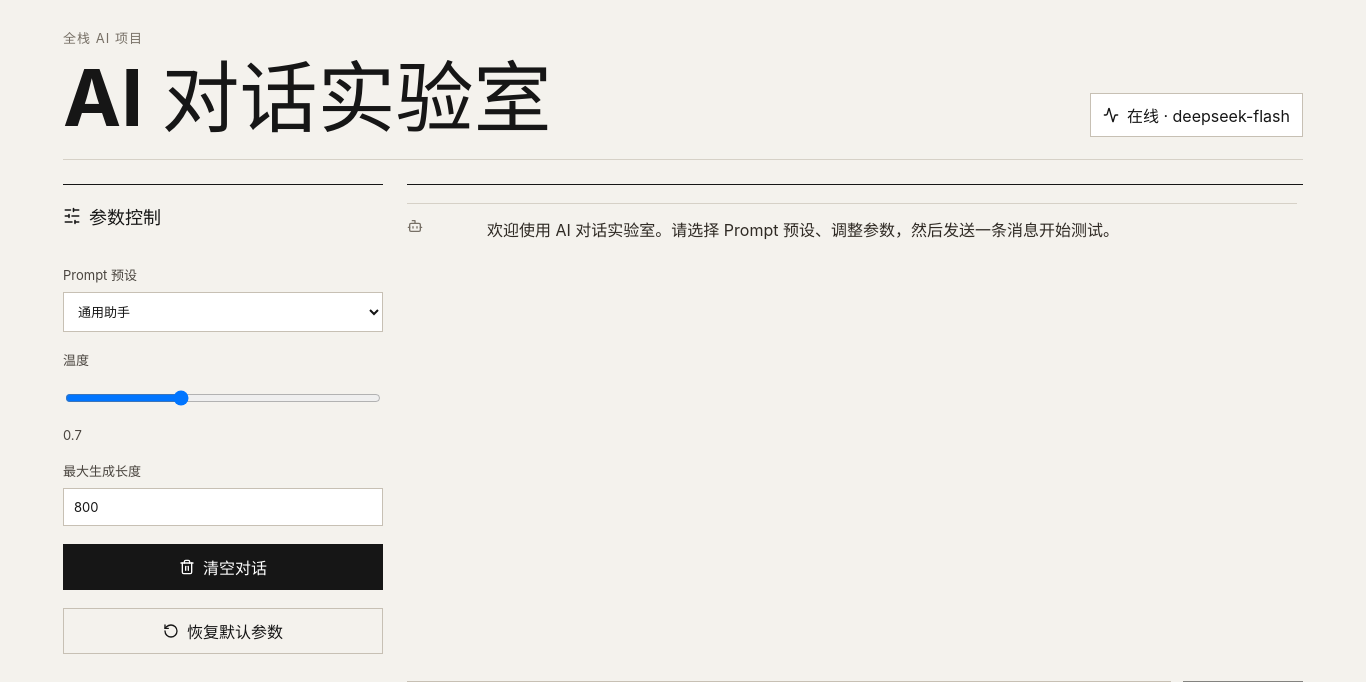
Test: App › clears the conversation with Chinese copy and persists the result
The width and height of the screenshot is (1366, 682).
Expected: the text "在线 · deepseek-flash" is shown, [1127, 103, 1290, 127]
Click the button "清空对话" at coordinates (223, 567), box [63, 544, 383, 590]
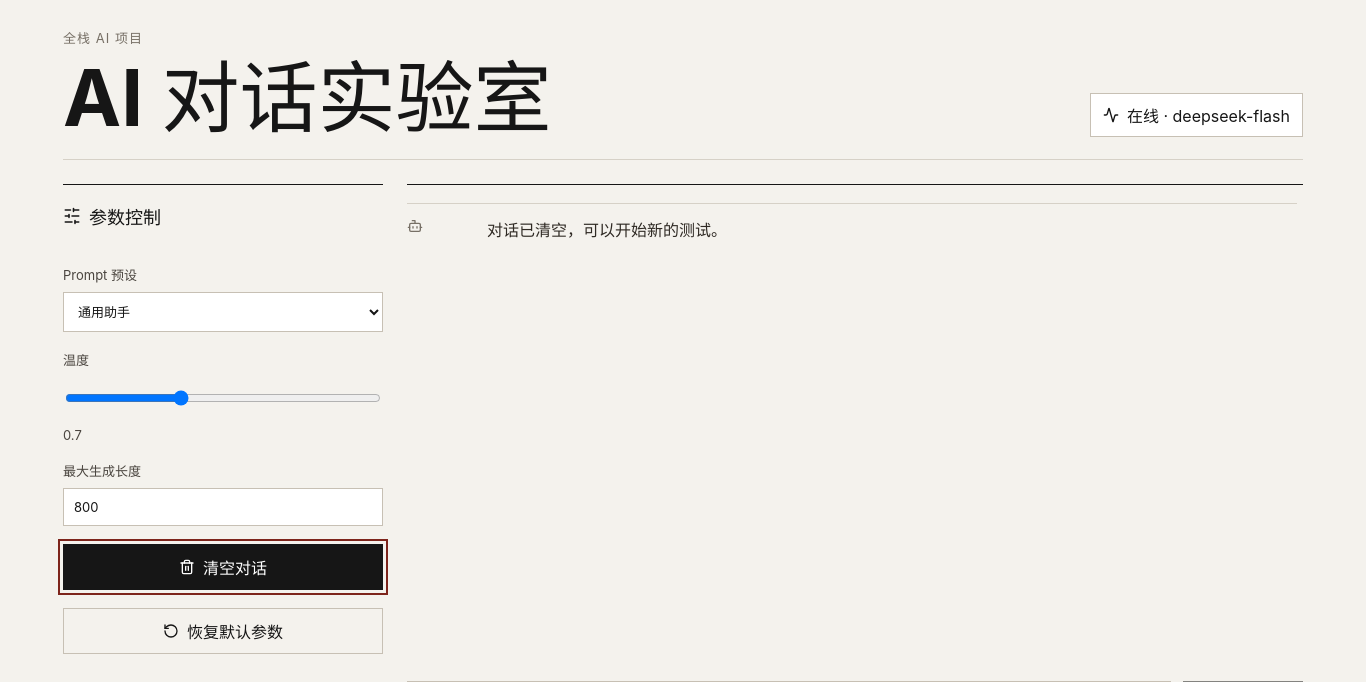
Expected: the text "对话已清空，可以开始新的测试。" is shown, [487, 220, 727, 240]
